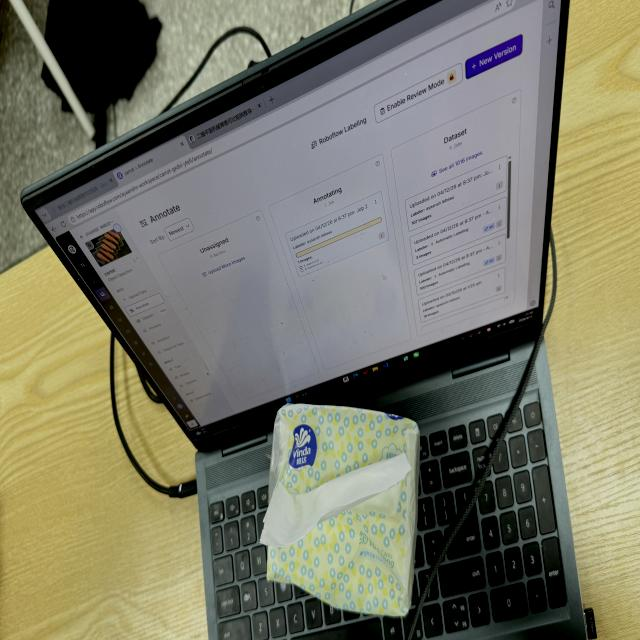tissue: (261, 405, 419, 615)
